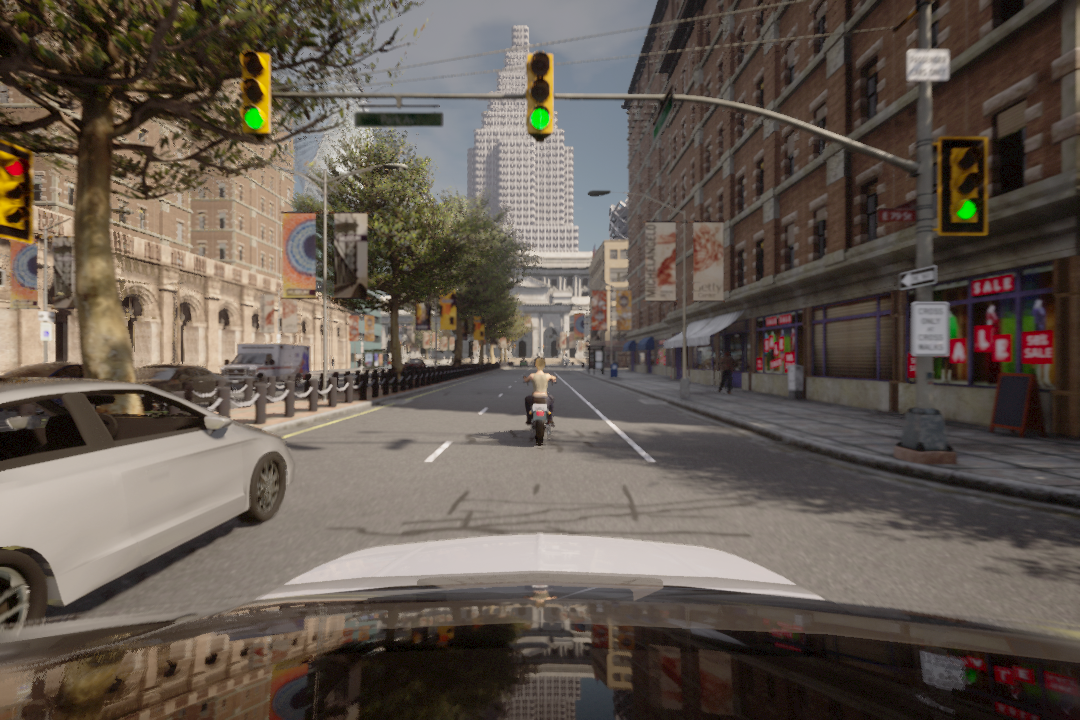TrafficLight: (943, 140, 991, 234), (240, 51, 279, 139), (1, 137, 33, 244), (525, 52, 561, 139)
